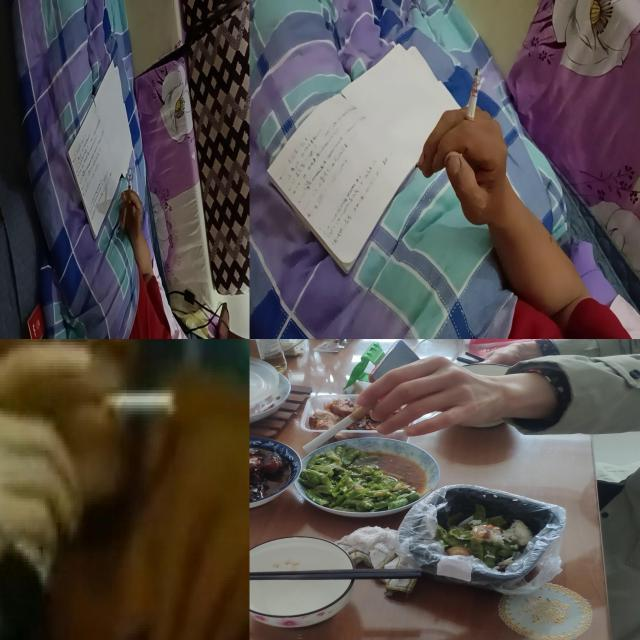cigarette: (303, 397, 382, 454), (101, 384, 174, 414), (462, 68, 482, 134), (128, 174, 131, 203)
